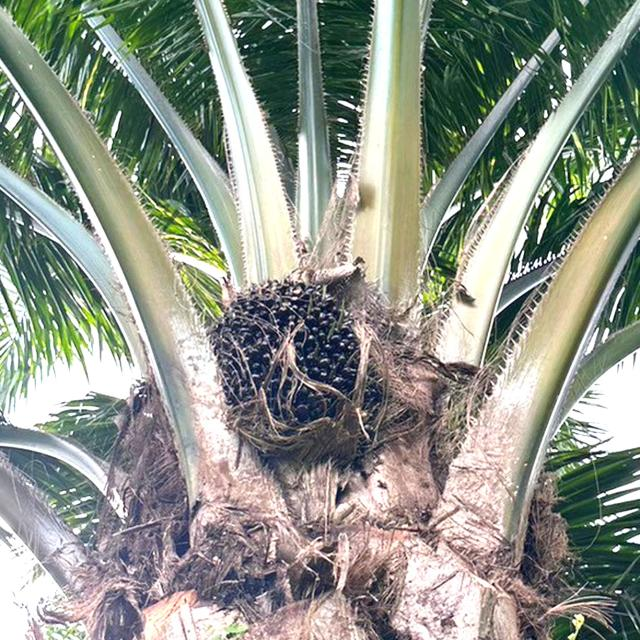unripe: (209, 269, 391, 467)
